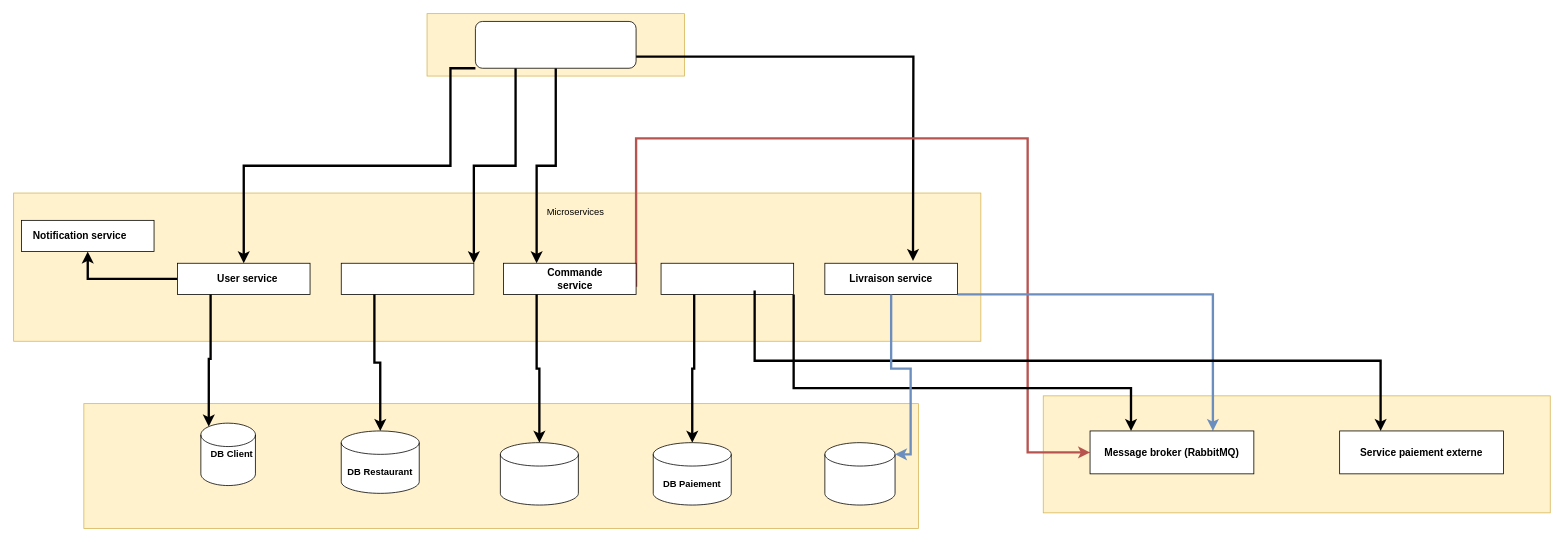
Image size: 1564x542. Some labels were removed from this diagram. The box of each missing label's shape, as (x1, y1, x2, y2) in pixels:
API Gateway: (475, 21, 636, 68)
DB Commande: (500, 442, 578, 505)
DB Livraison: (824, 442, 895, 505)
Paiement service: (660, 262, 794, 294)
Restaurant service: (340, 262, 474, 294)
